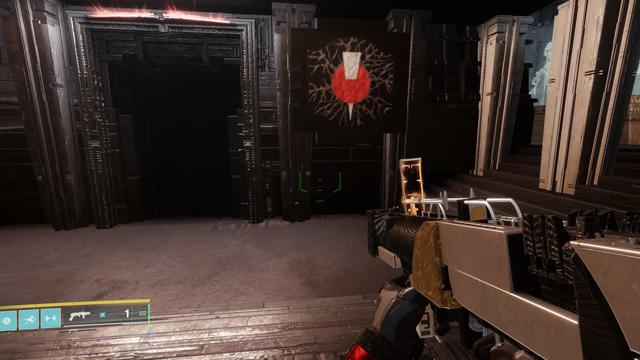kill: (307, 36, 393, 129)
